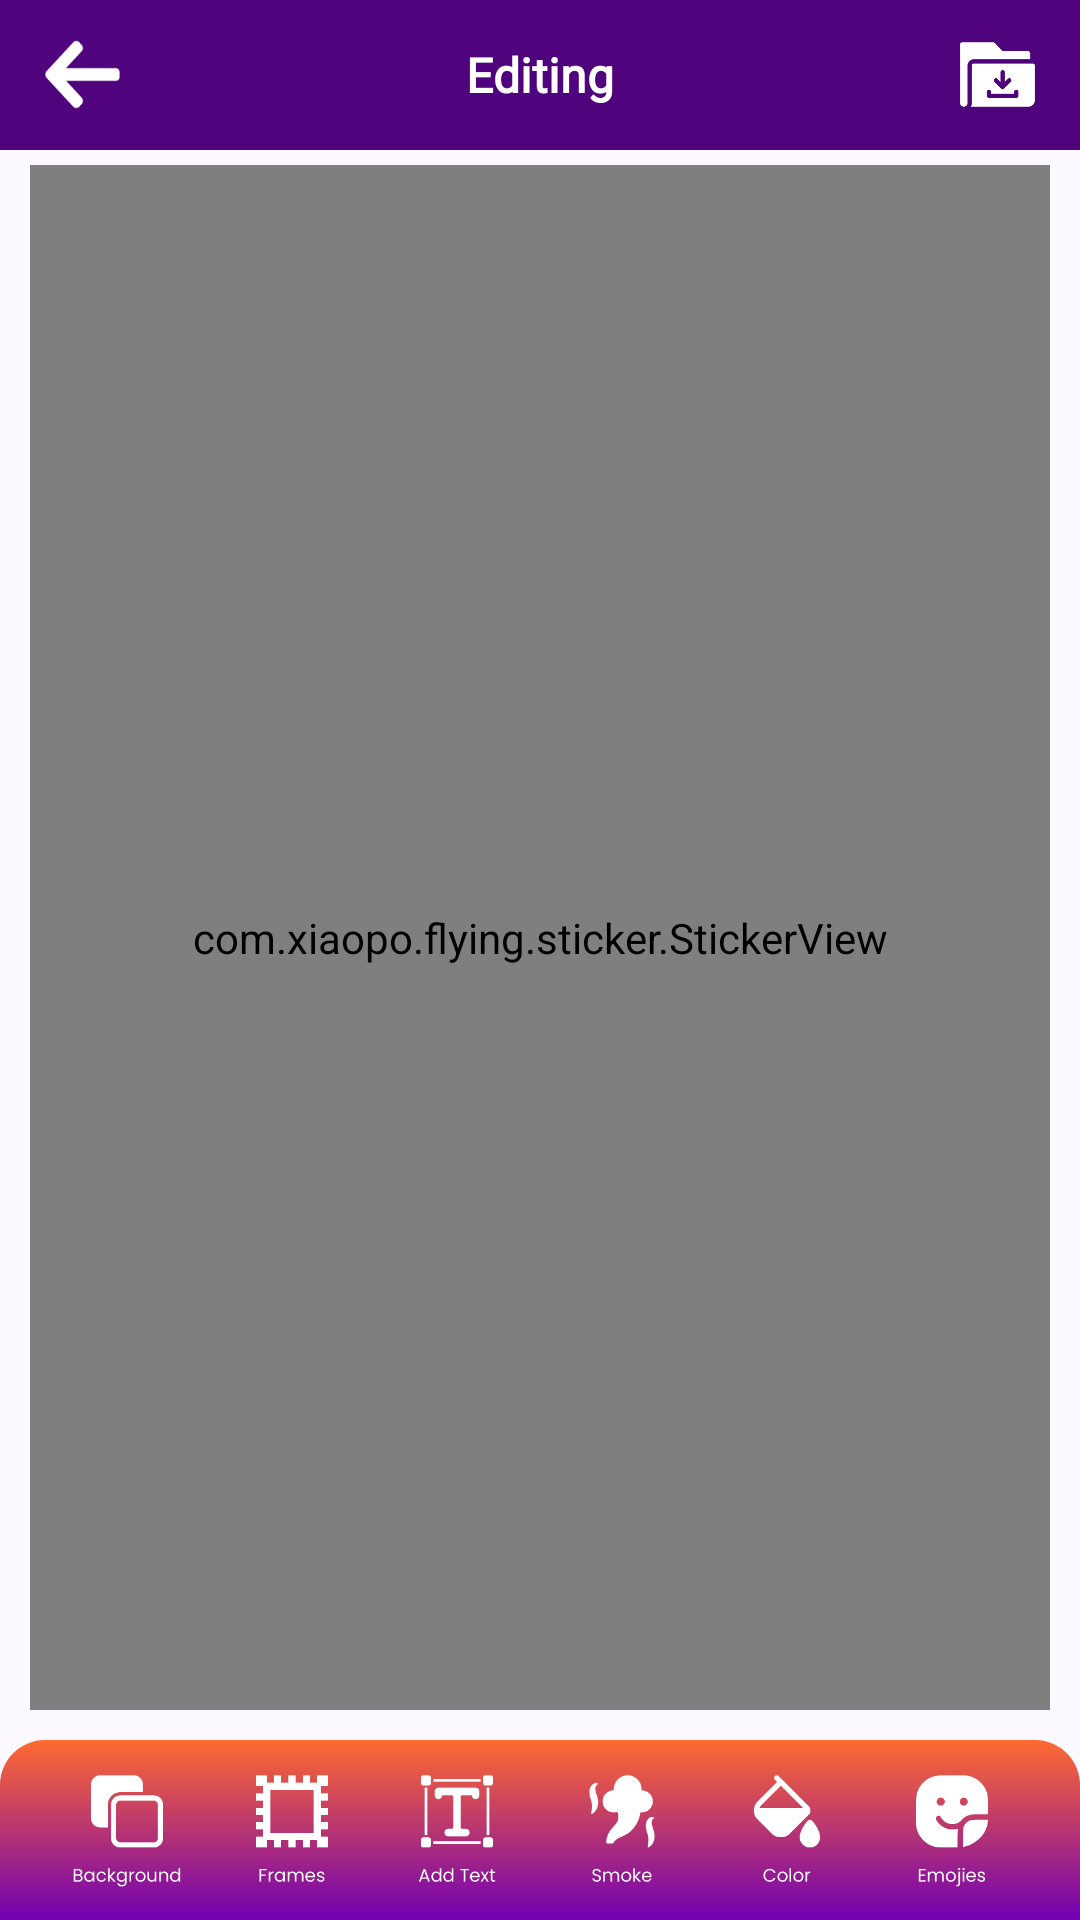

Named icons in this screenshot (1080w x 1920h) and their bounding boxes, (x1, y1, x2, y2):
back: (45, 40, 120, 109)
save: (960, 42, 1035, 107)
